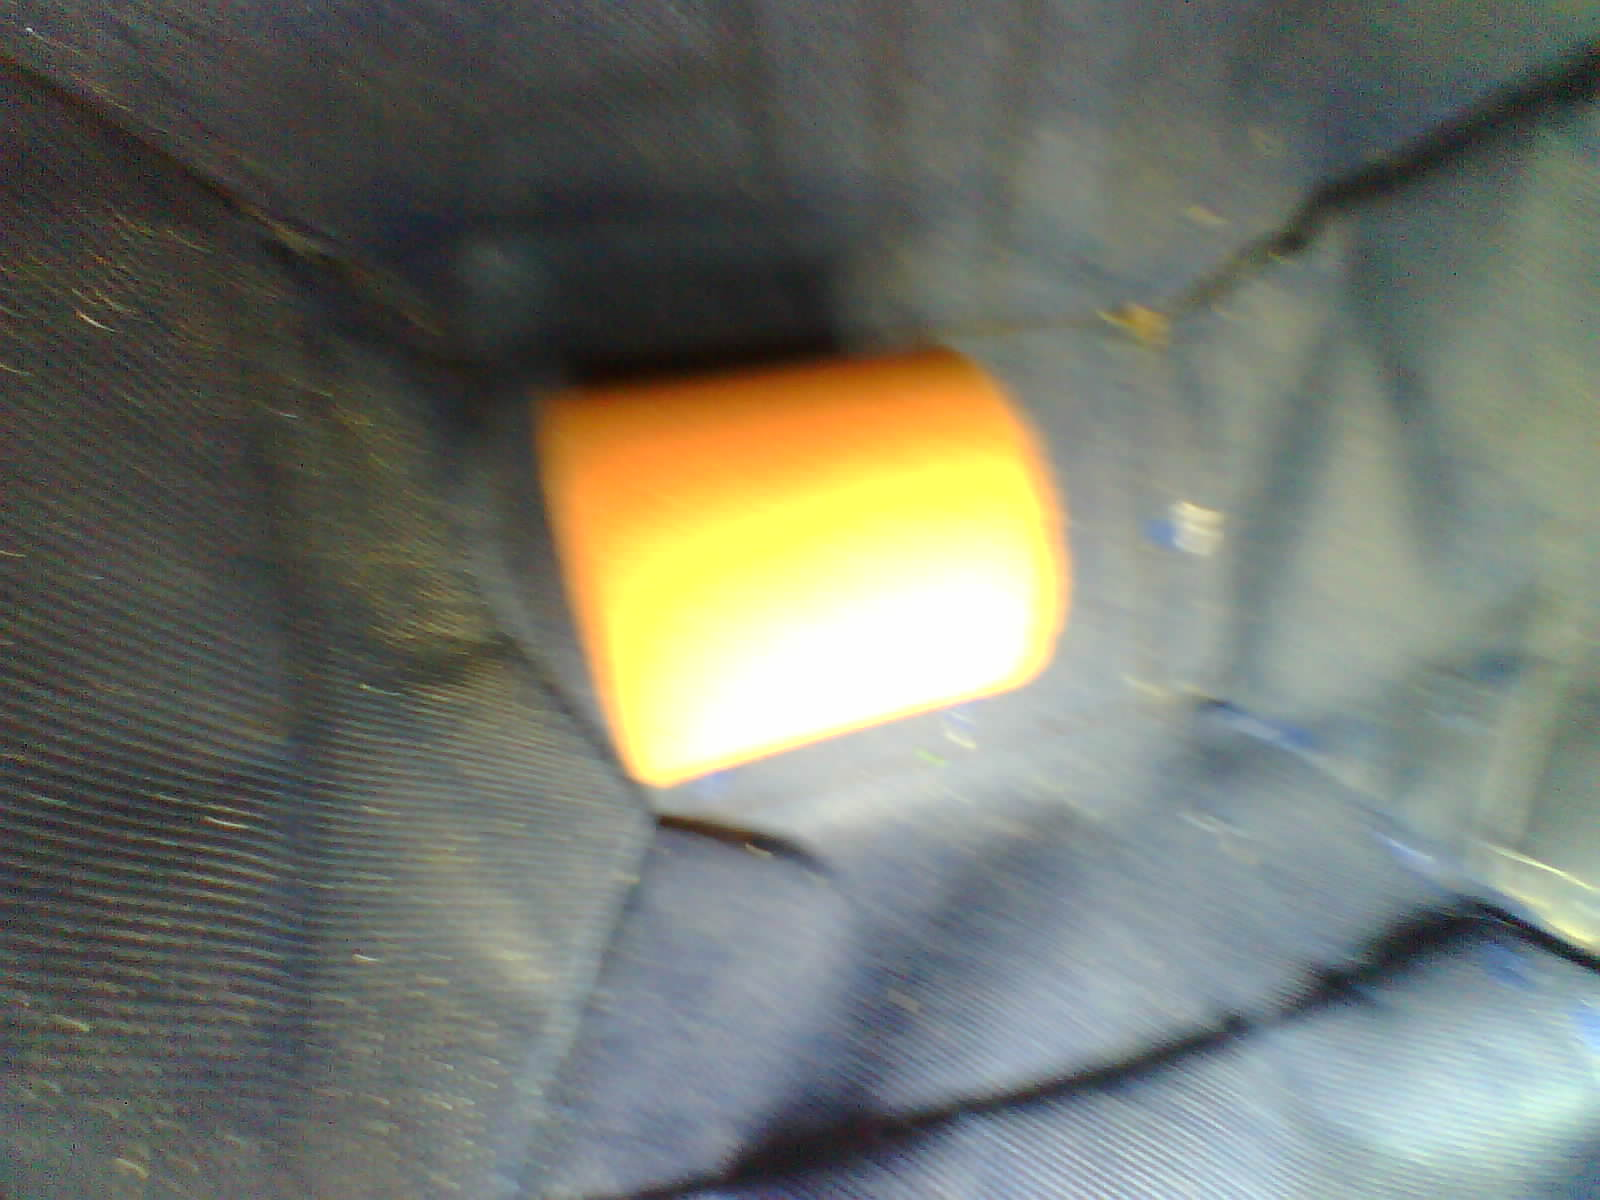cylinder-soft: (513, 318, 1094, 816)
